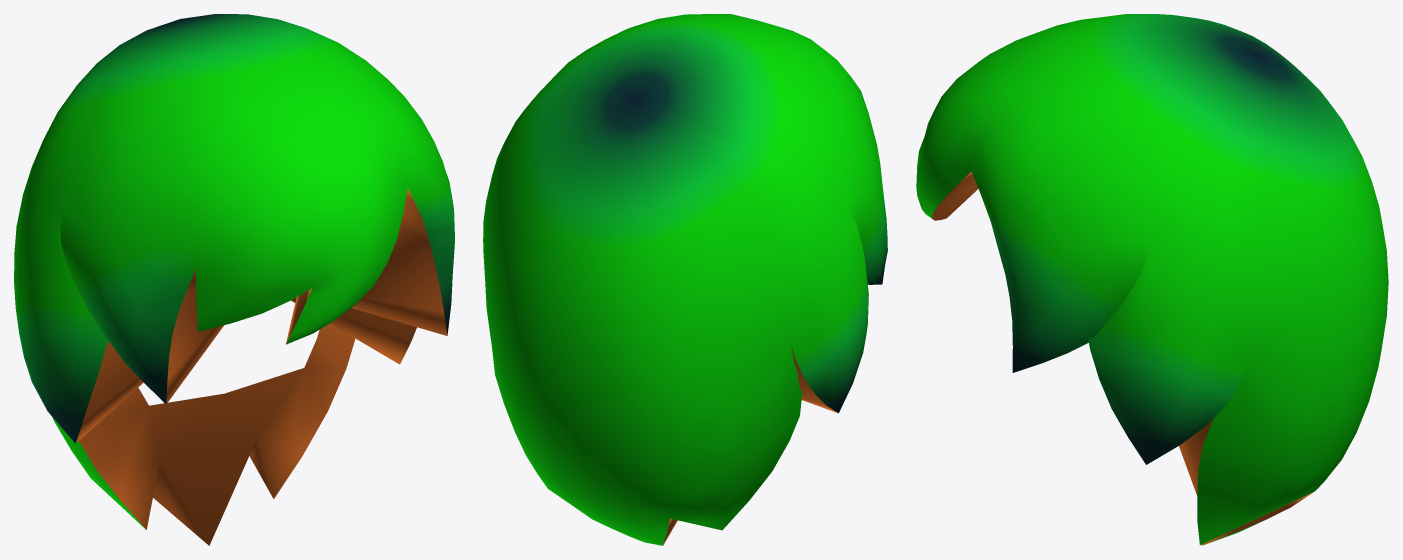
File: Hair1_102.glb
3 renders of one model, left to right at view 1: azimuth 30°, elevation 25°; view 2: azimuth 150°, elevation 25°; view 3: azimuth 270°, elevation 25°, orthographic. The views are drawn at different scales.
Size of the model in its own units: 64.25 by 83.31 by 69.58.
